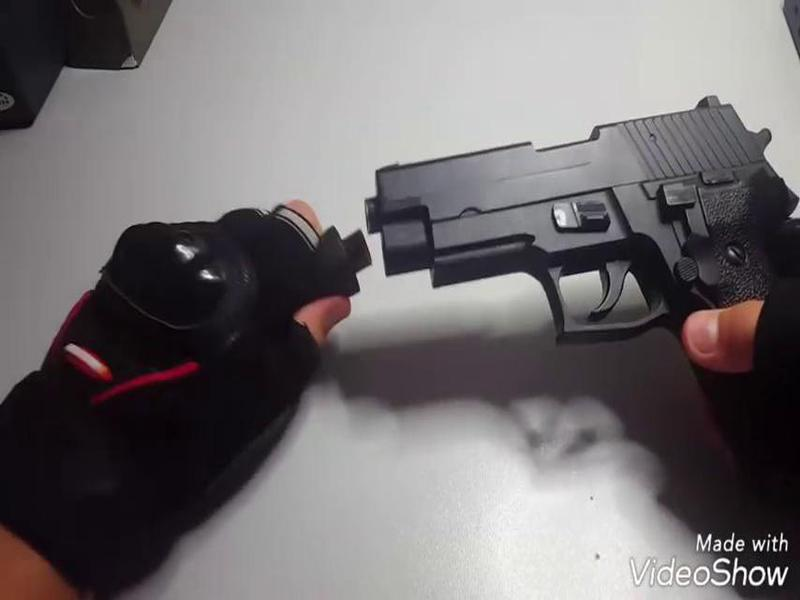Pistola: (359, 84, 800, 372)
